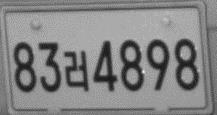3: (36, 41, 61, 92)
4: (92, 38, 118, 92)
8: (119, 38, 144, 91), (174, 38, 199, 91), (12, 41, 36, 92)
9: (146, 38, 170, 91)
러: (63, 49, 89, 92)
